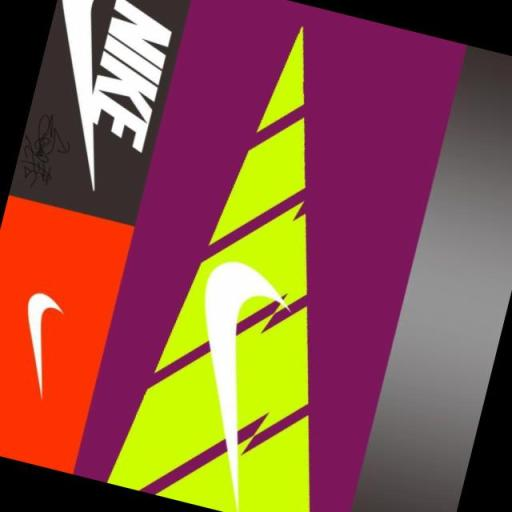Nike: (156, 256, 297, 511), (78, 0, 175, 154)
